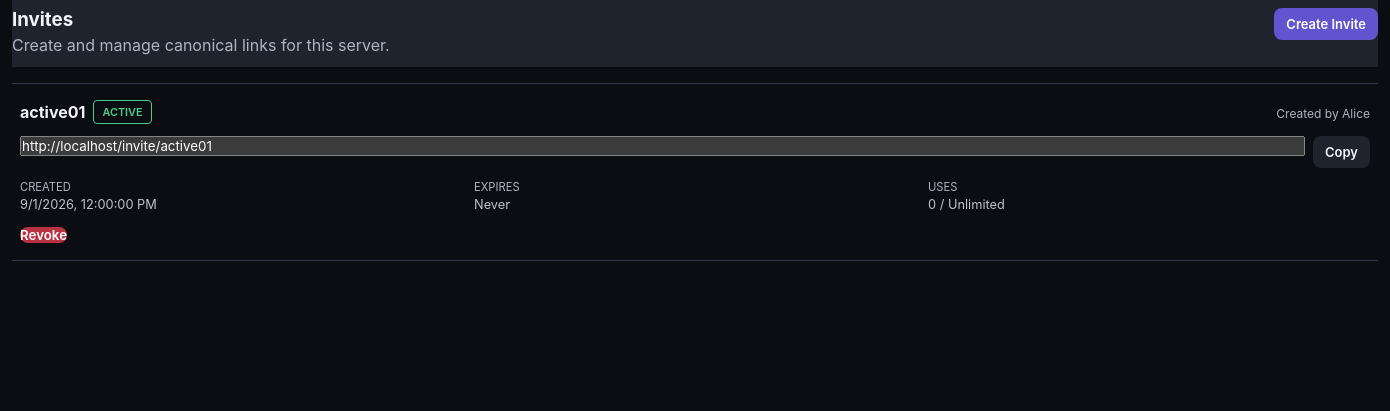
F.5.4 Invite Administration › maps expiration and maxUses presets, prevents duplicate submit, and reloads the authoritative list once successful
expect the text "active01" is shown: met, box [20, 102, 85, 122]
Click the button "Create Invite" at [1326, 24], box [1274, 8, 1378, 40]
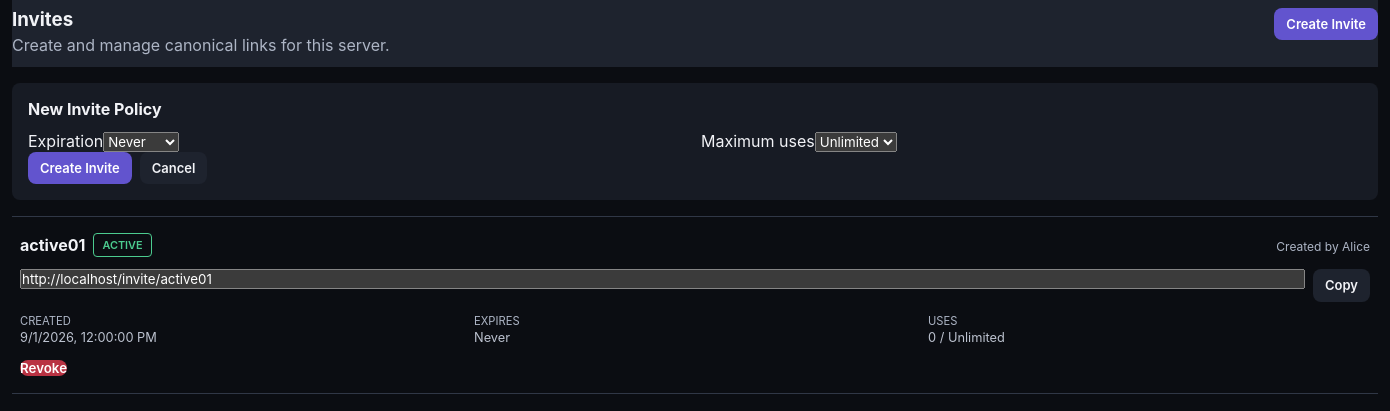
Select "7 days" in the dropdown labelled "Expiration" at [141, 142], box [103, 132, 179, 152]
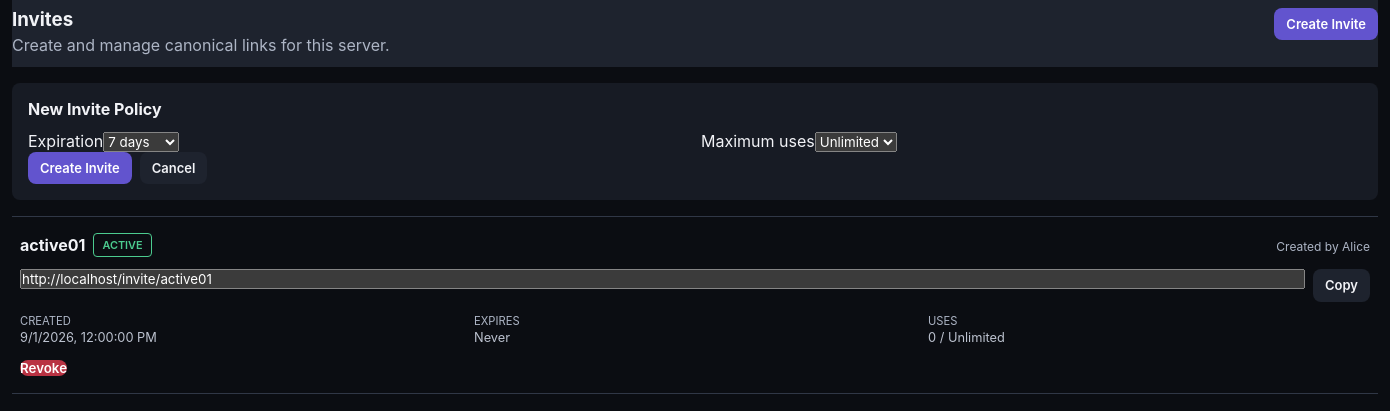
Select "100" in the dropdown labelled "Maximum uses" at [856, 142], box [815, 132, 897, 152]
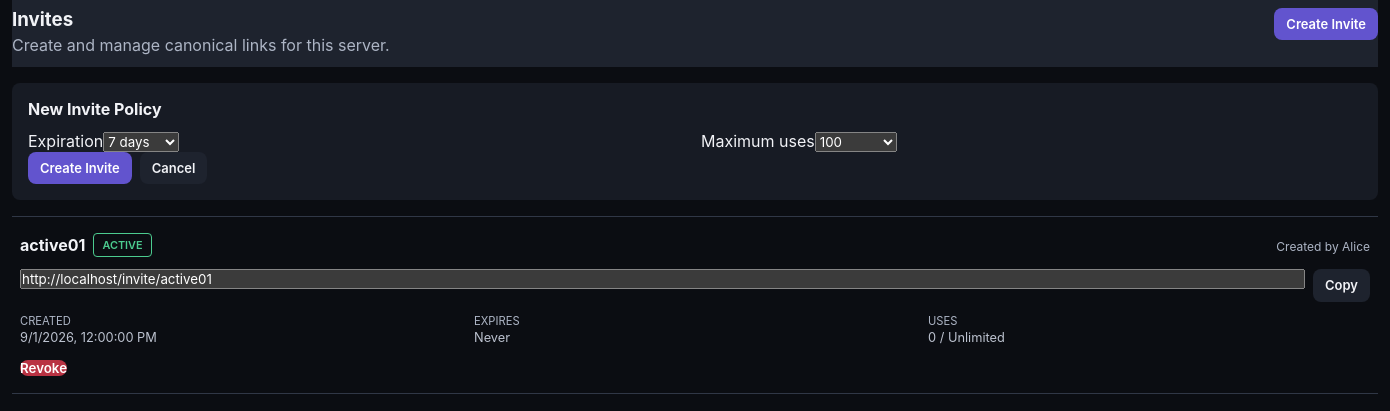
Click the button "Create Invite" below "Expiration" at [80, 168], box [28, 152, 132, 184]
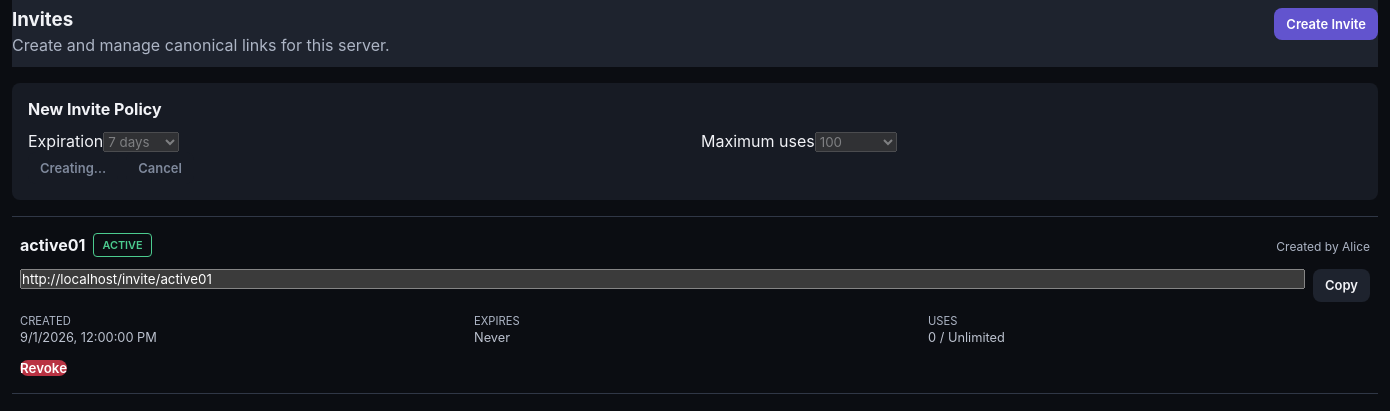
Click the button named "Create Invite" at [73, 168], box [28, 152, 118, 184]
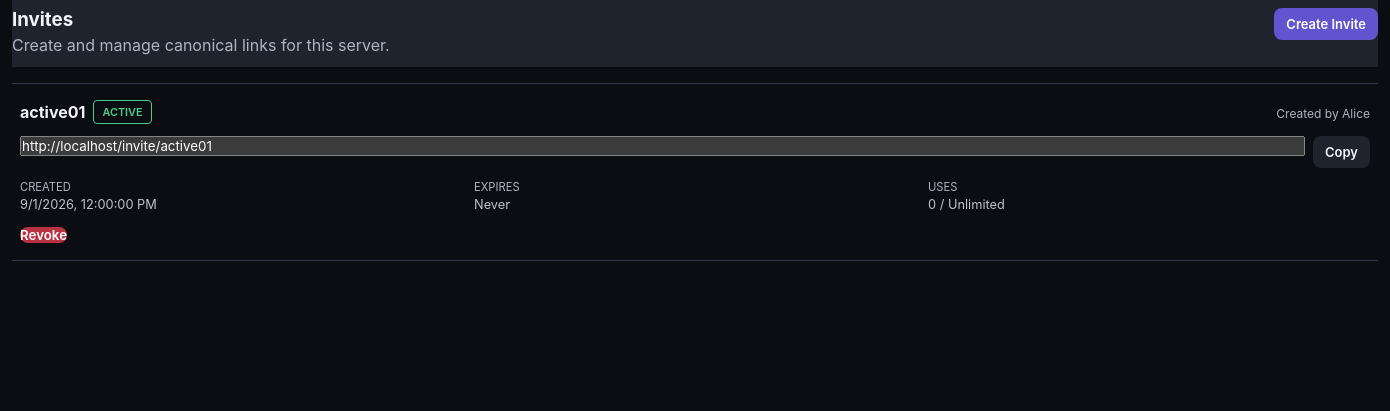
expect the label labelled "Expiration" is gone: met
